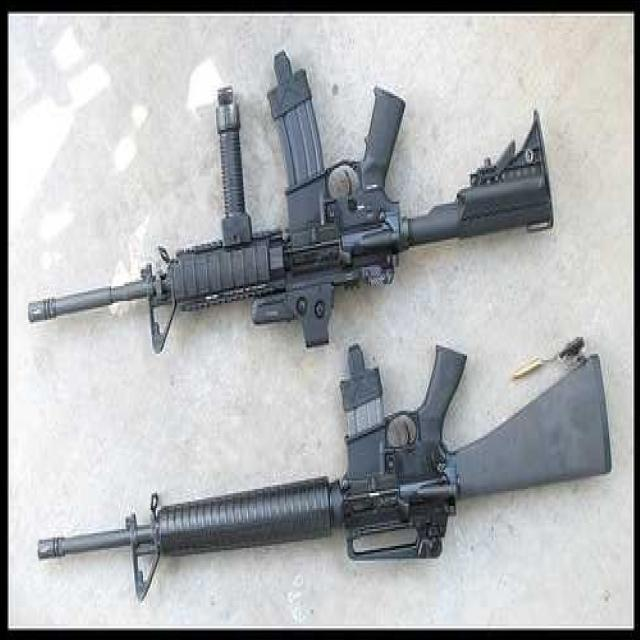heavyweapon: (13, 20, 551, 390), (30, 297, 625, 608)
